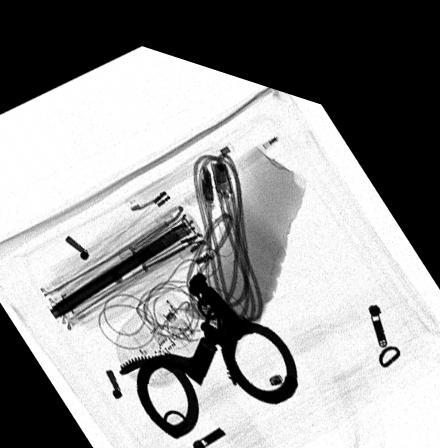HandCuffs: (118, 257, 298, 428)
